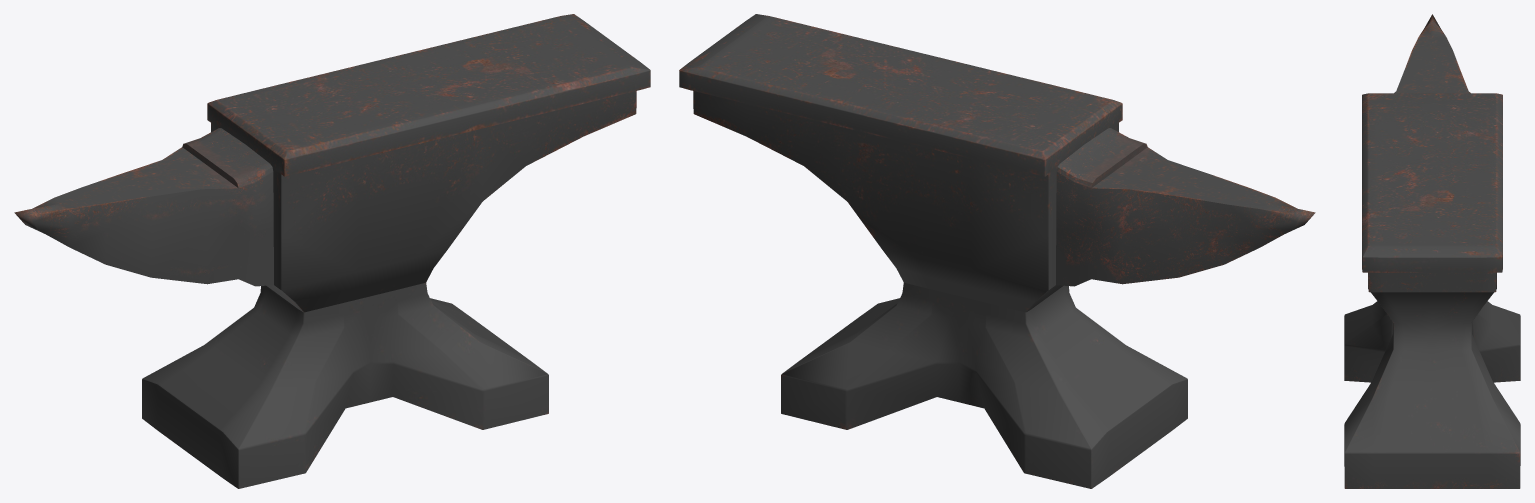
Rendered from anvil.glb.
3 renders of one model, left to right at view 1: azimuth 30°, elevation 25°; view 2: azimuth 150°, elevation 25°; view 3: azimuth 270°, elevation 25°, orthographic. The views are drawn at different scales.
Parts seen in each view (by area): view 1: Plane001__0; view 2: Plane001__0; view 3: Plane001__0.
Part boxes in pixels (x1,y1,x2,y2): Plane001__0: (14, 14, 650, 488); Plane001__0: (679, 14, 1315, 488); Plane001__0: (1344, 14, 1520, 488).
Size of the model in its own units: 2 by 1 by 0.56.
1 material, 1 textured.
